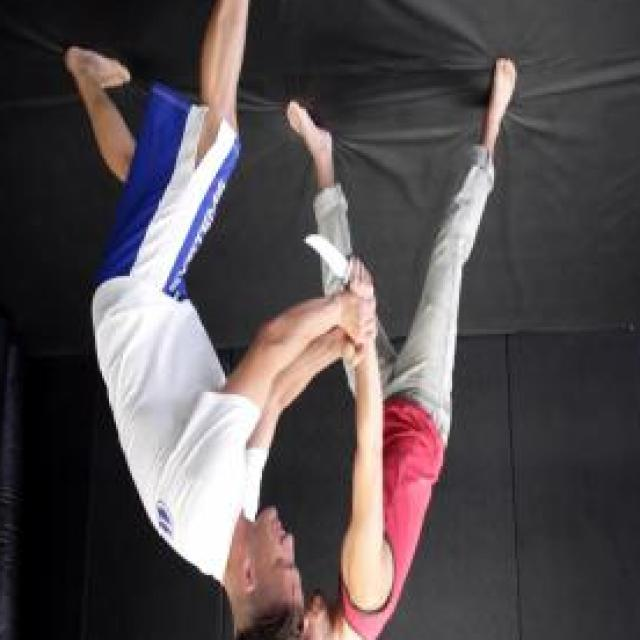knife: (301, 230, 378, 299)
